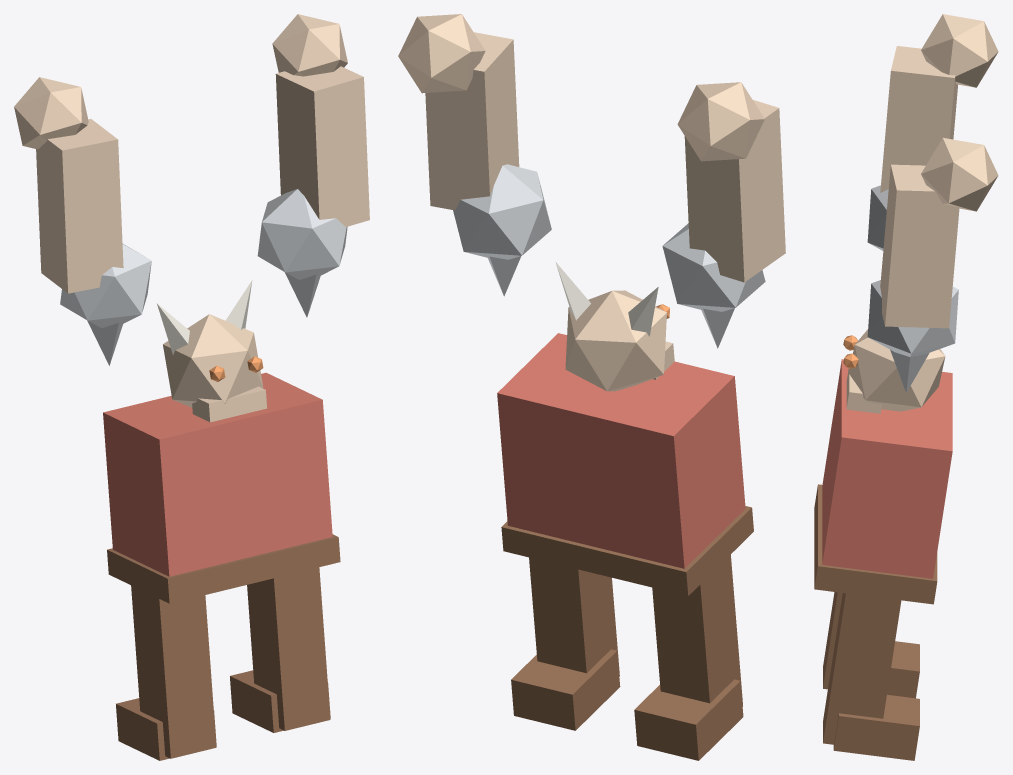
The model's file is npcpose_brute_attack_05.glb.
3 views of the same model, side by side, from view 1: azimuth 30°, elevation 25°; view 2: azimuth 150°, elevation 25°; view 3: azimuth 270°, elevation 25° (orthographic). The views are drawn at different scales.
Visible parts, largest first — view 1: npcpose; view 2: npcpose; view 3: npcpose.
Part boxes in pixels (left/top/right/bottom): npcpose: left=14, top=14, right=369, bottom=760; npcpose: left=398, top=14, right=785, bottom=760; npcpose: left=814, top=14, right=998, bottom=760.
Size of the model in its own units: 1.43 by 2.75 by 0.7185.
